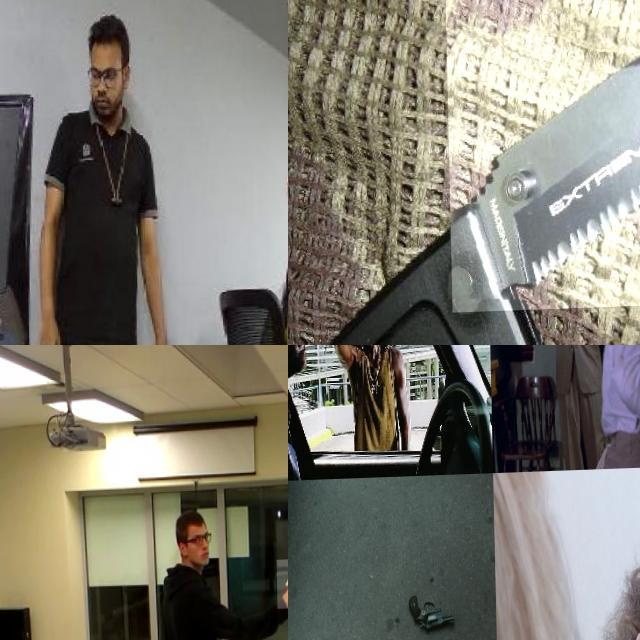-: (445, 0, 640, 314)
gun-knife-thesis - v11 Yolov5 augmented: (404, 586, 455, 640), (275, 561, 288, 611), (318, 345, 340, 368)
